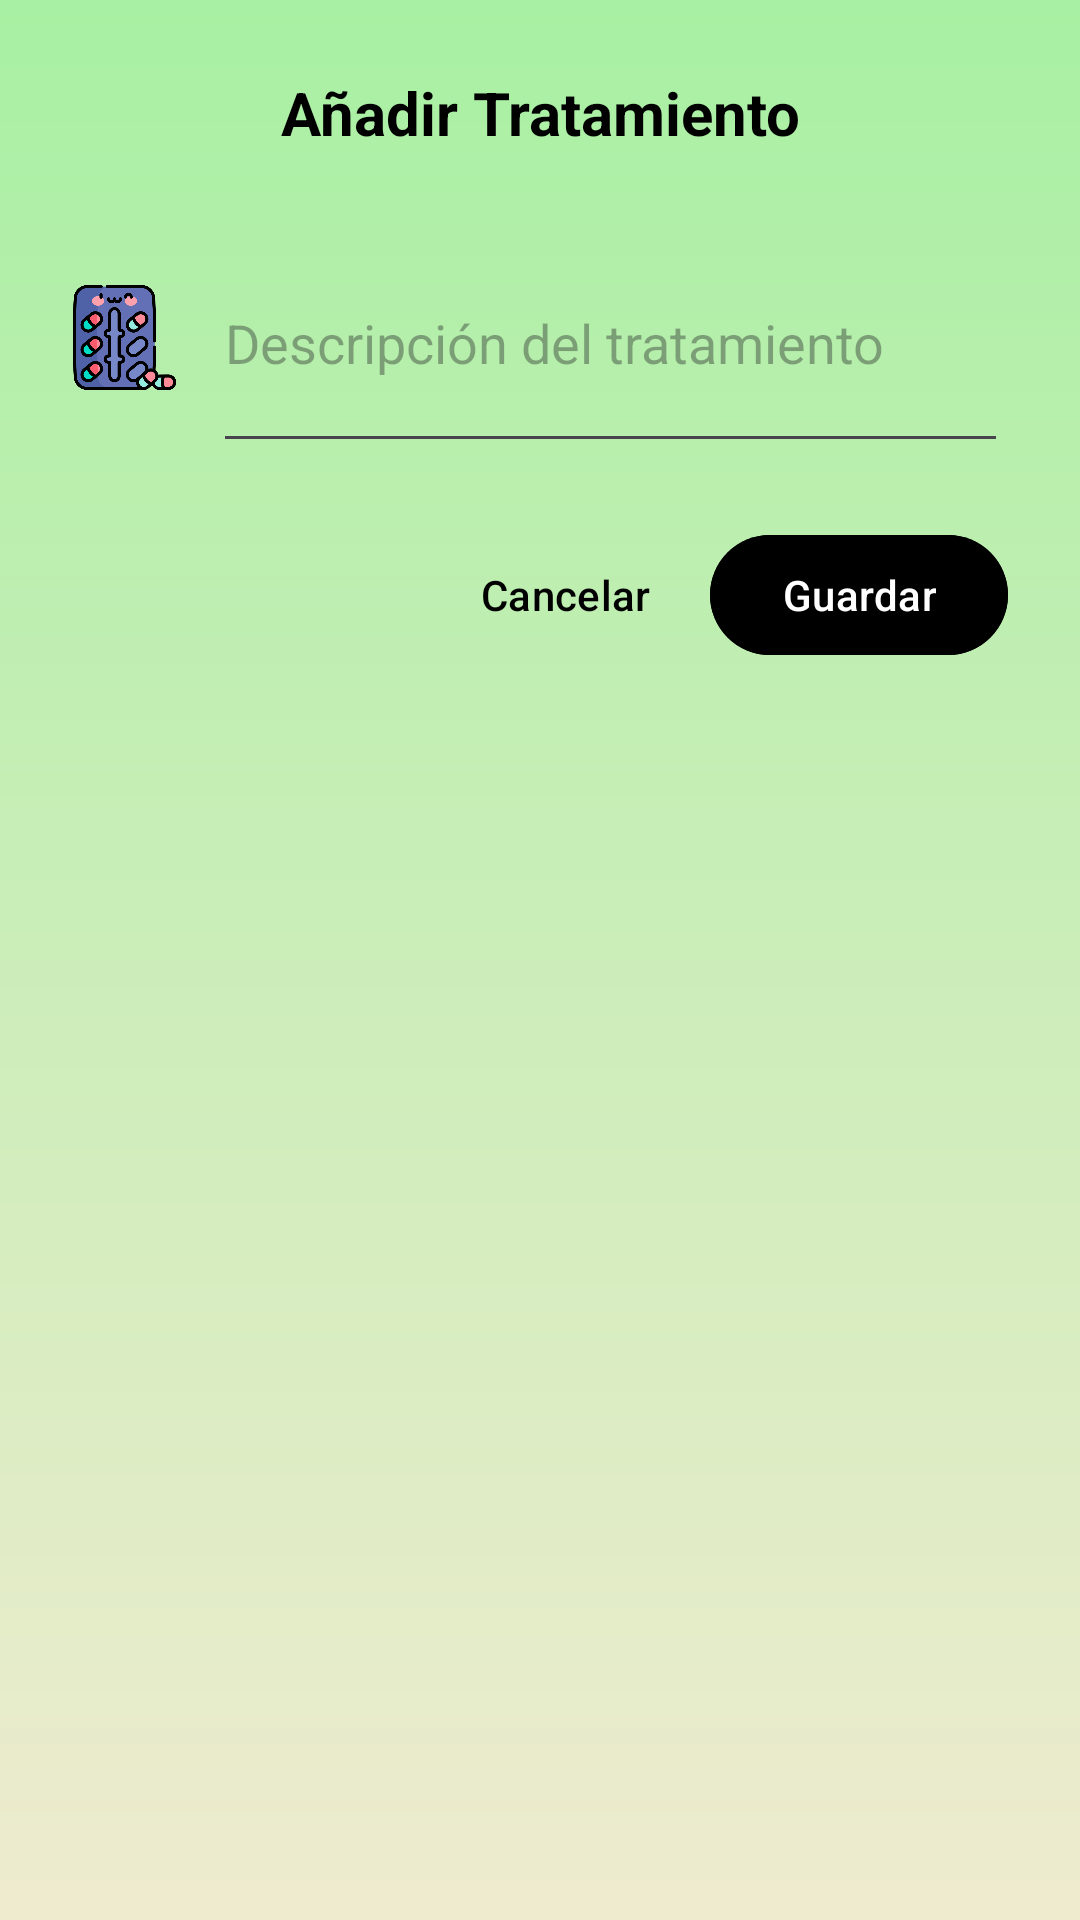

Where to tap for icons on this 1080 × 1920 app screen, as point (x, y):
pastillasimg: point (124, 337)
